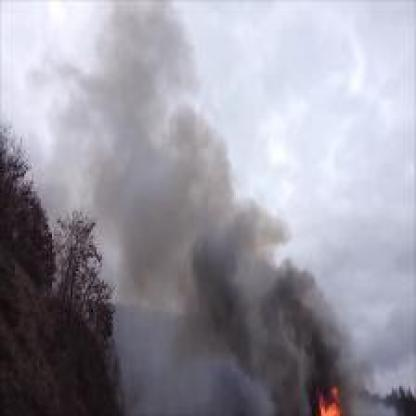fire: (309, 381, 346, 412)
smoke: (84, 127, 344, 374)
